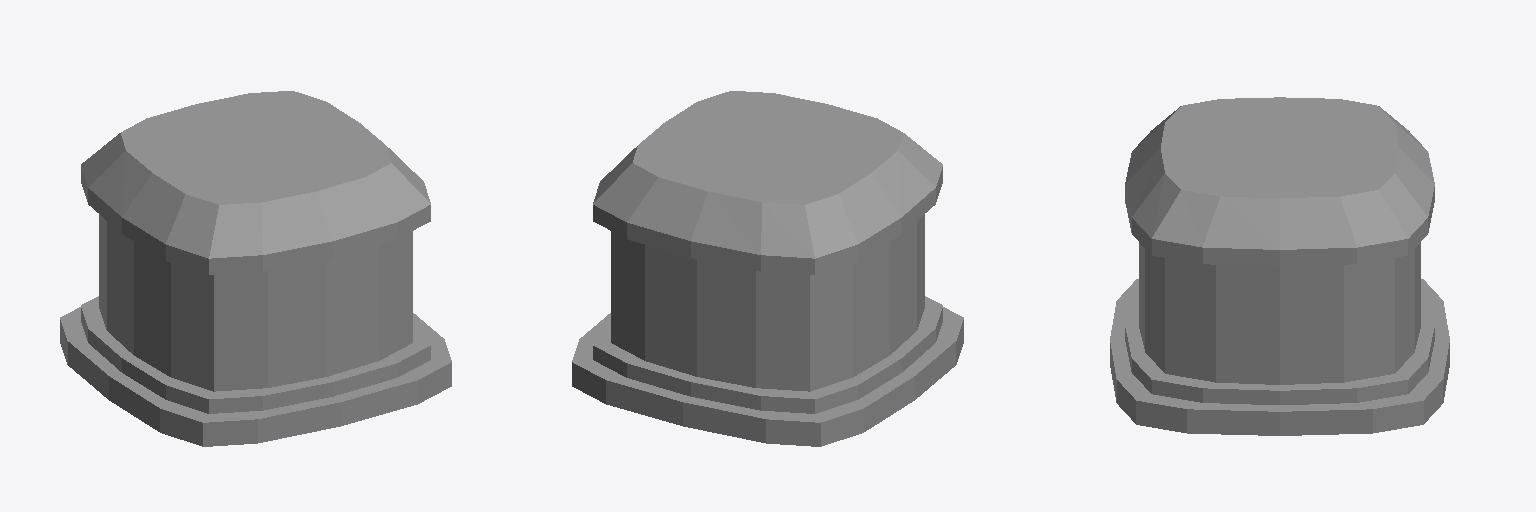
File: towerbot.obj
The picture shows the model from 3 angles: view 1: azimuth 30°, elevation 25°; view 2: azimuth 150°, elevation 25°; view 3: azimuth 270°, elevation 25°; orthographic projection.
Visible parts, largest first — view 1: Cube; view 2: Cube; view 3: Cube.
Boxes of the visible parts, box(x1,y1,x2,y2) form: Cube: box(60, 91, 451, 446); Cube: box(572, 91, 963, 446); Cube: box(1110, 97, 1449, 435).
Size of the model in its own units: 2.85 by 2 by 2.85.